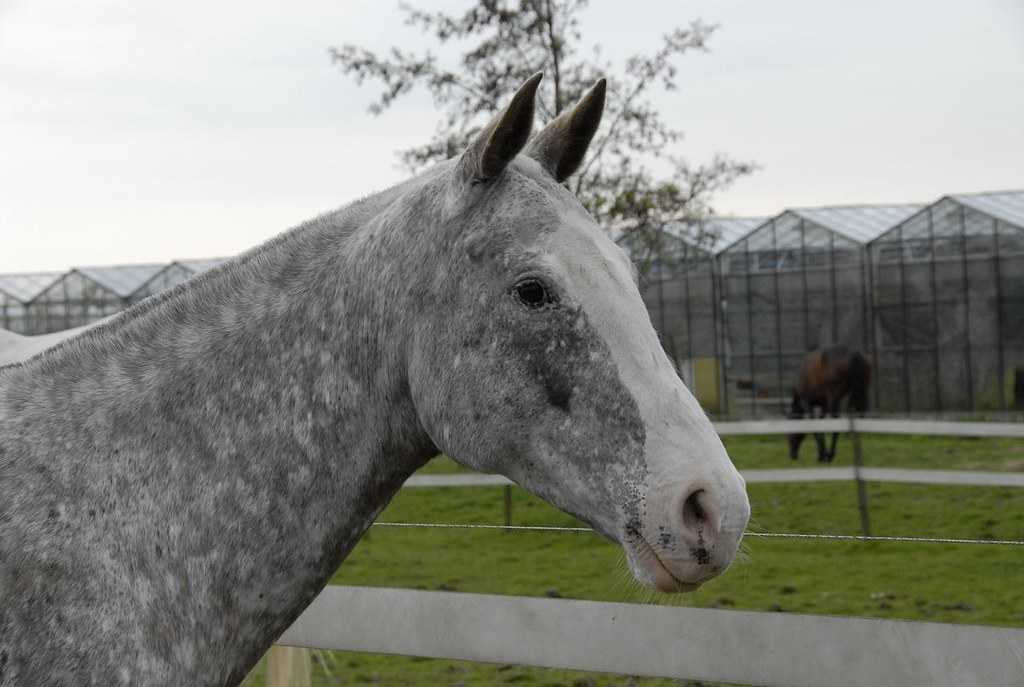horse: (1, 74, 749, 684), (777, 349, 874, 467)
